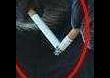Cigarette: (28, 8, 60, 50), (54, 27, 79, 54)
